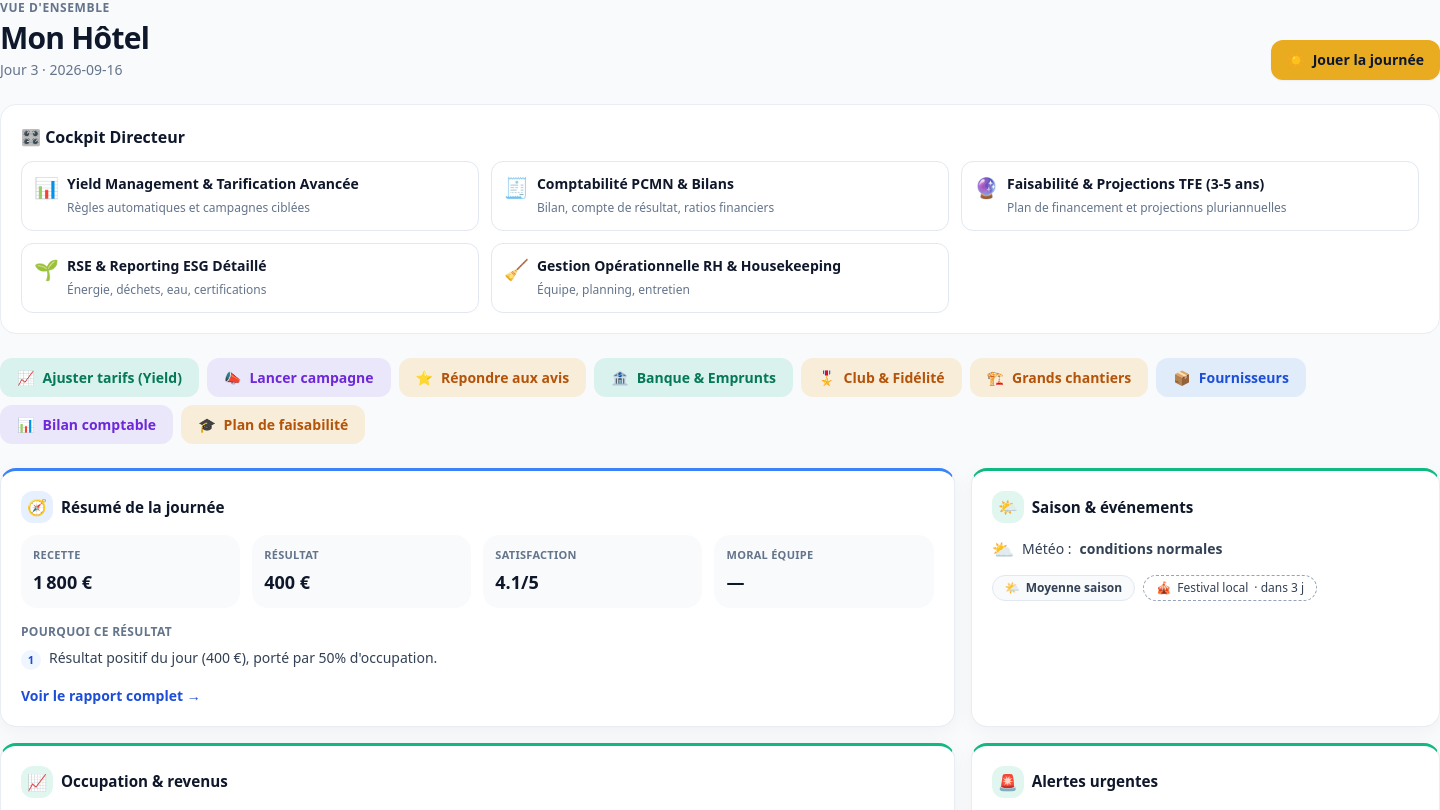
Test case: Dashboard / TFE feasibility desk › opens the desk from there
This screenshot has width=1440, height=810.
Click the button with test id "quick-tfe-feasibility" at (273, 424), box [181,405,365,444]
(page scrolled)
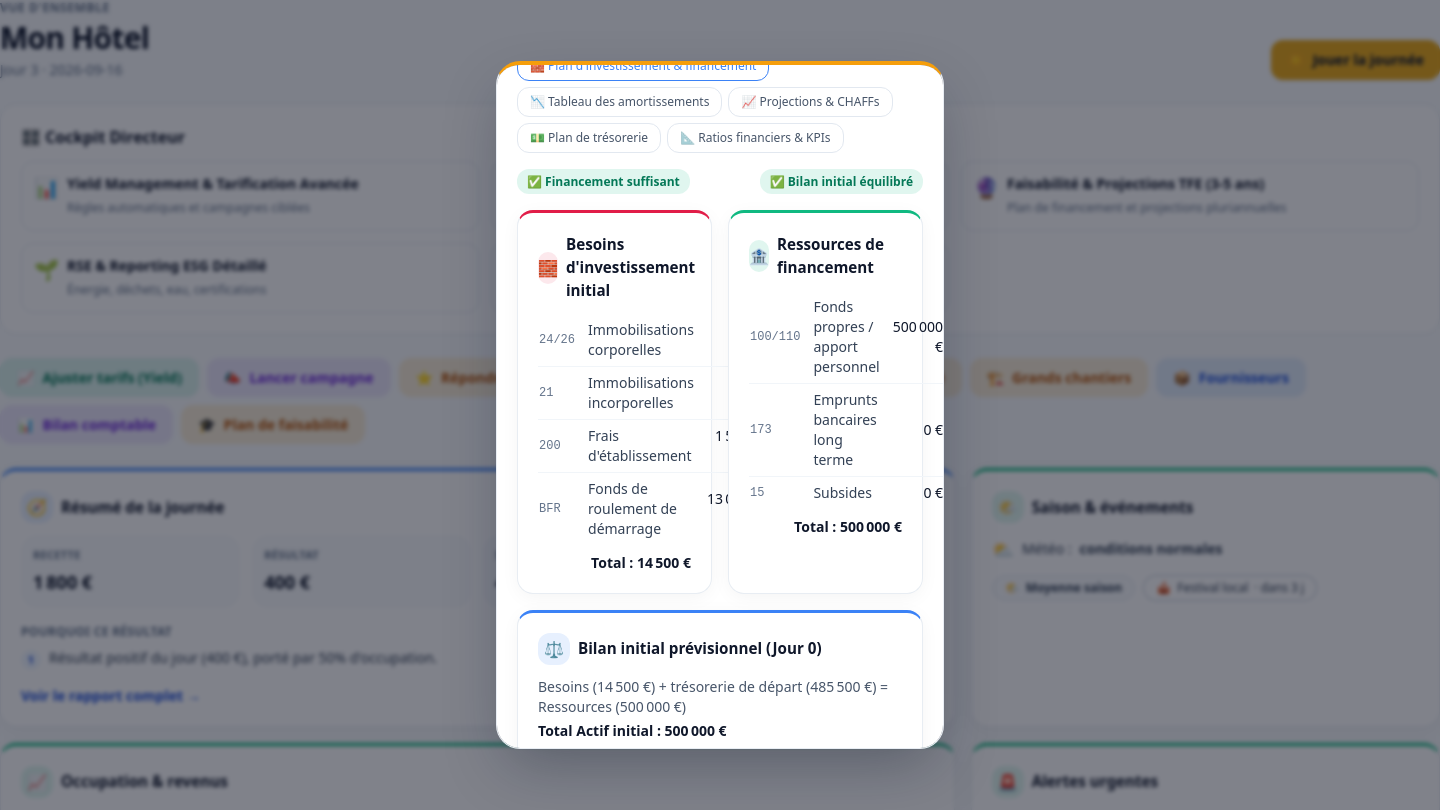
Now the dialog "Plan de Faisabilité TFE" is shown
Now the element with test id "tfe-feasibility-panel" is shown, box [517,61,923,749]
